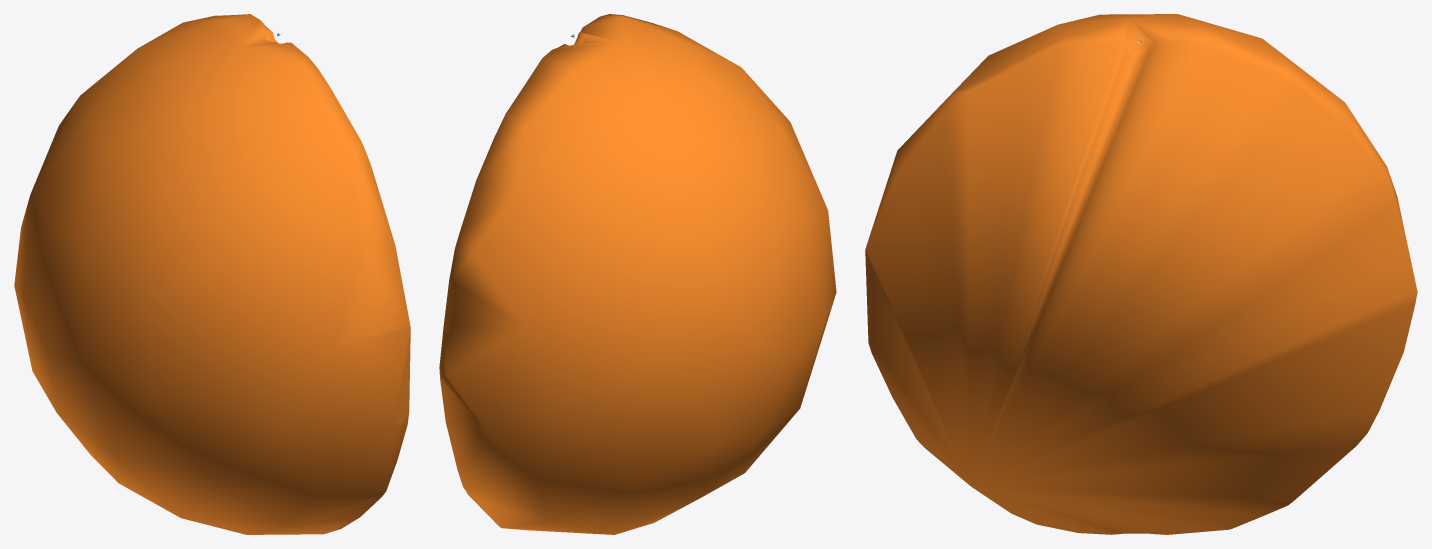
Rendered from orange_left.obj.
3 renders of one model, left to right at view 1: azimuth 30°, elevation 25°; view 2: azimuth 150°, elevation 25°; view 3: azimuth 270°, elevation 25°, orthographic. The views are drawn at different scales.
Visible parts, largest first — view 1: orange.002; view 2: orange.002; view 3: orange.002.
Boxes of the visible parts, x1=… form: orange.002: x1=14, y1=14, x2=410, y2=534; orange.002: x1=439, y1=14, x2=836, y2=534; orange.002: x1=865, y1=14, x2=1417, y2=534.
Bounding box in the file's own units: 0.0629 × 0.1235 × 0.1251.
